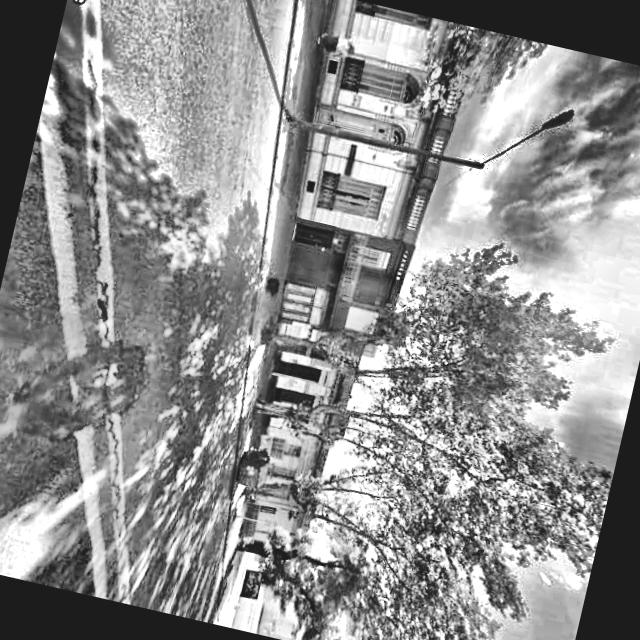Dustbin: (224, 438, 278, 497)
